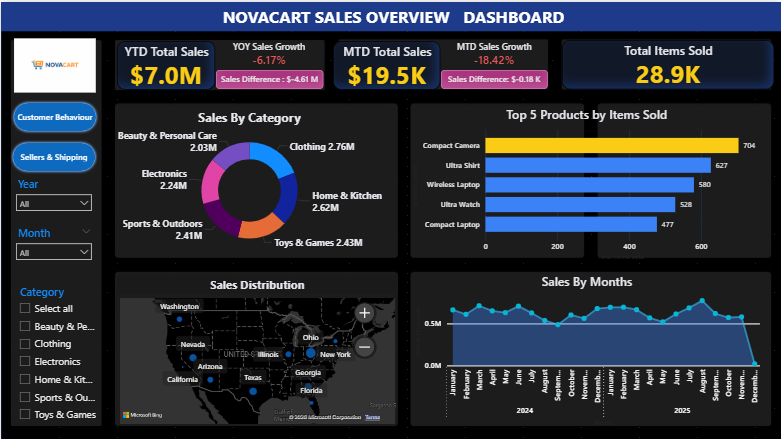

The dashboard page shown, as its layout file describes it:
{"tool":"powerbi","page":{"name":"Sales Overview","canvas":[1280,720],"ordinal":0},"visuals":[{"type":"card","title":"YTD Total Sales","fields":{"Values":["order_items.YTD Total Sales"]},"box":[190,64.4,161.1,80],"z":0},{"type":"card","title":"YOY Sales Growth","fields":{"Values":["order_items.YOY sales growth"]},"box":[359.7,62.5,161.1,48.6],"z":1000},{"type":"card","title":"MTD Total Sales","fields":{"Values":["order_items.MTD Total Sales"]},"box":[544,64,176,80],"z":2000},{"type":"card","title":"MTD Sales Growth","fields":{"Values":["order_items.MOM Growth %"]},"box":[727.8,62.5,161.1,48.6],"z":3000},{"type":"card","title":"Total Items Sold ","fields":{"Values":["order_items.Total items sold"]},"box":[919.4,62.7,347.8,80.6],"z":4000},{"type":"clusteredBarChart","title":"Top 5 Products by Items Sold","fields":{"Y":["order_items.Total items sold"],"Category":["products.product_name"]},"box":[672.1,168.9,577,255.7],"z":5000},{"type":"donutChart","title":"Sales By Category","fields":{"Category":["category.category_name"],"Y":["Sum(order_items.total_sale)"]},"box":[176,176,464,240],"z":6000},{"type":"areaChart","title":"Sales By Months","fields":{"Category":["calendar_table.Year","calendar_table.Month"],"Y":["Sum(order_items.total_sale)"]},"box":[672.1,444.3,577,255.7],"z":7000},{"type":"card","fields":{"Values":["order_items.Display YOY Diff"]},"box":[352.2,111.9,176.1,31.3],"z":8000},{"type":"card","fields":{"Values":["order_items.Display MOM  Diff"]},"box":[720.9,111.9,174.6,31.3],"z":9000},{"type":"image","box":[16,48,144,112],"z":10000},{"type":"slicer","fields":{"Values":["category.category_name"]},"box":[18.1,456.9,143.1,238.9],"z":11000},{"type":"slicer","fields":{"Values":["calendar_table.Year"]},"box":[15.6,281.1,144.4,80],"z":12000},{"type":"slicer","fields":{"Values":["calendar_table.Month"]},"box":[15.6,361.1,144.4,95.6],"z":13000},{"type":"textbox","box":[0,0,1280,48],"z":14000},{"type":"map","title":"Sales By Region","fields":{"Size":["Sum(order_items.total_sale)"],"Category":["customers.state"]},"box":[190.8,442.1,460.5,253.9],"z":15000},{"type":"shape","box":[15.7,160,144.3,55.7],"z":16000},{"type":"shape","box":[15.6,225.6,144.4,55.6],"z":17000},{"type":"shape","box":[190.2,444.3,460.7,34.4],"z":18000}]}

Visuals, with their boxes in screenshot pixels (x1, y1, x2, y2), scaled from the page's 1280x720 canvas onto the 781x439 screenshot:
"YTD Total Sales" card: {"x1": 116, "y1": 39, "x2": 214, "y2": 88}
"YOY Sales Growth" card: {"x1": 219, "y1": 38, "x2": 318, "y2": 68}
"MTD Total Sales" card: {"x1": 332, "y1": 39, "x2": 439, "y2": 88}
"MTD Sales Growth" card: {"x1": 444, "y1": 38, "x2": 542, "y2": 68}
"Total Items Sold " card: {"x1": 561, "y1": 38, "x2": 773, "y2": 87}
"Top 5 Products by Items Sold" clusteredBarChart: {"x1": 410, "y1": 103, "x2": 762, "y2": 259}
"Sales By Category" donutChart: {"x1": 107, "y1": 107, "x2": 390, "y2": 254}
"Sales By Months" areaChart: {"x1": 410, "y1": 271, "x2": 762, "y2": 427}
card - order_items.Display YOY Diff: {"x1": 215, "y1": 68, "x2": 322, "y2": 87}
card - order_items.Display MOM  Diff: {"x1": 440, "y1": 68, "x2": 546, "y2": 87}
image: {"x1": 10, "y1": 29, "x2": 98, "y2": 98}
slicer - category.category_name: {"x1": 11, "y1": 279, "x2": 98, "y2": 424}
slicer - calendar_table.Year: {"x1": 10, "y1": 171, "x2": 98, "y2": 220}
slicer - calendar_table.Month: {"x1": 10, "y1": 220, "x2": 98, "y2": 278}
textbox: {"x1": 0, "y1": 0, "x2": 780, "y2": 29}
"Sales By Region" map: {"x1": 116, "y1": 270, "x2": 397, "y2": 424}
shape: {"x1": 10, "y1": 98, "x2": 98, "y2": 132}
shape: {"x1": 10, "y1": 138, "x2": 98, "y2": 171}
shape: {"x1": 116, "y1": 271, "x2": 397, "y2": 292}
